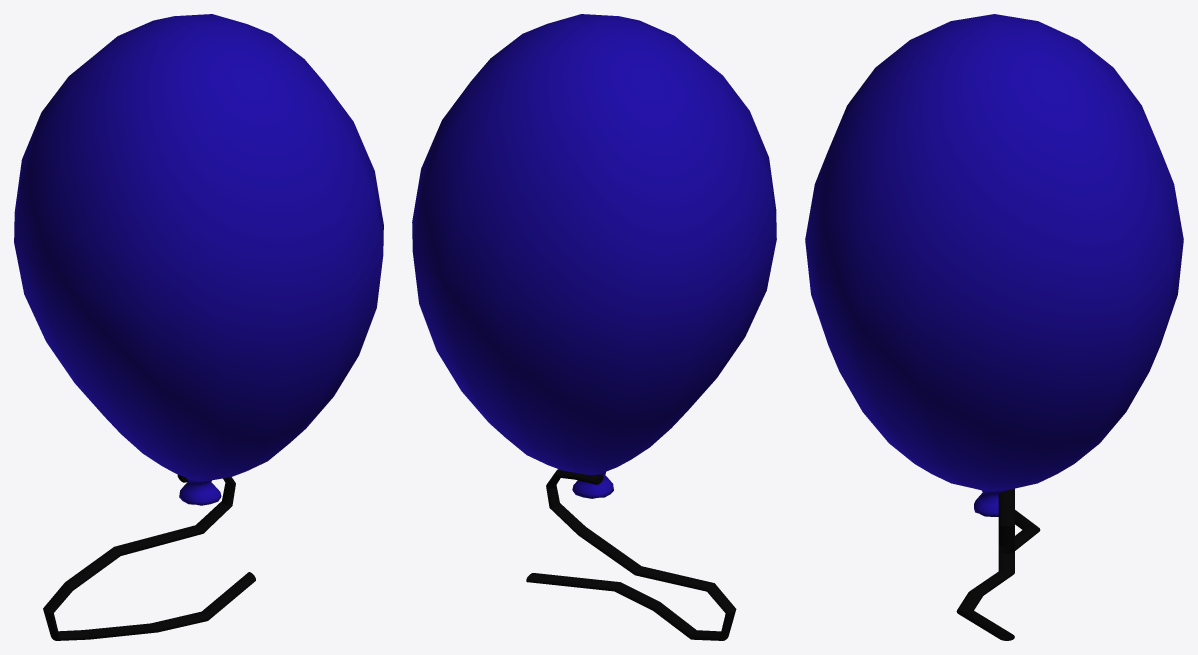
The model's file is baloon.obj.
3 renders of one model, left to right at view 1: azimuth 30°, elevation 25°; view 2: azimuth 150°, elevation 25°; view 3: azimuth 270°, elevation 25°, orthographic. The views are drawn at different scales.
Parts seen in each view (by area): view 1: Cube.017_Cube.1161; view 2: Cube.017_Cube.1161; view 3: Cube.017_Cube.1161.
Part boxes in pixels (x1,y1,x2,y2): Cube.017_Cube.1161: (14, 14, 383, 640); Cube.017_Cube.1161: (412, 14, 776, 640); Cube.017_Cube.1161: (805, 14, 1183, 640).
Size of the model in its own units: 1.29 by 2.3 by 1.31.
